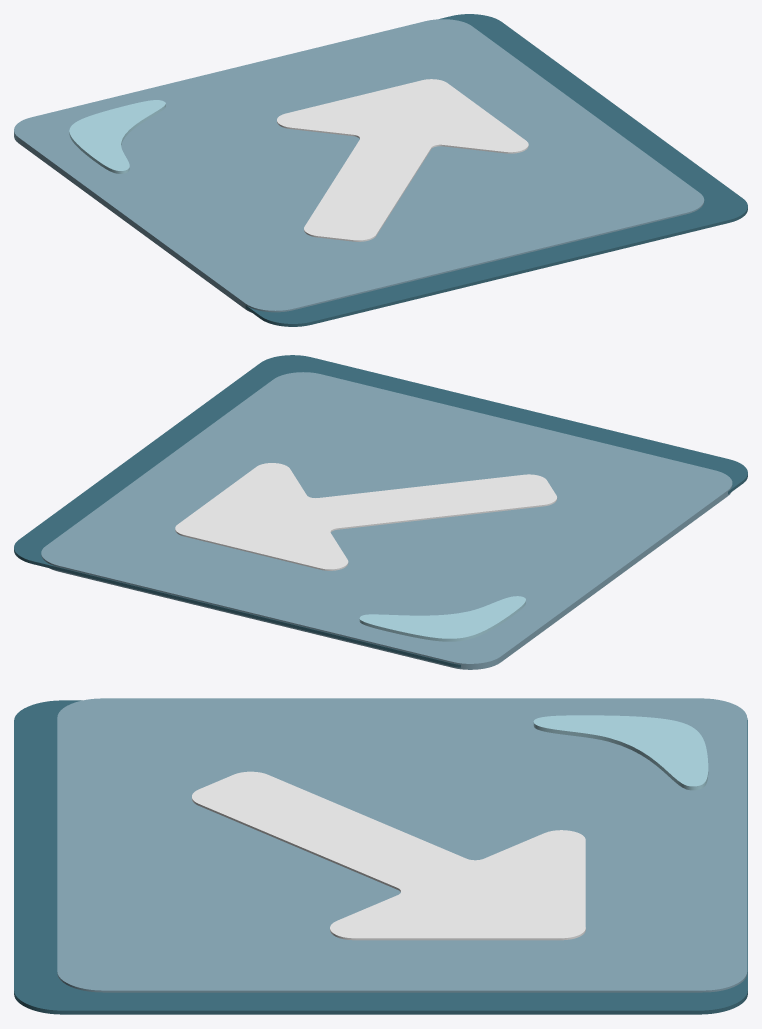
Rendered from emoji_u2197.glb.
The picture shows the model from 3 angles, top to bottom: view 1: azimuth 30°, elevation 25°; view 2: azimuth 150°, elevation 25°; view 3: azimuth 270°, elevation 25°; orthographic projection. The views are drawn at different scales.
Visible parts, largest first — view 1: emoji_u2197; view 2: emoji_u2197; view 3: emoji_u2197.
Boxes of the visible parts, <box> form: emoji_u2197: <box>14,14,747,326</box>; emoji_u2197: <box>14,355,747,669</box>; emoji_u2197: <box>14,698,747,1014</box>.
Size of the model in its own units: 0.0339 by 0.0008 by 0.0339.
